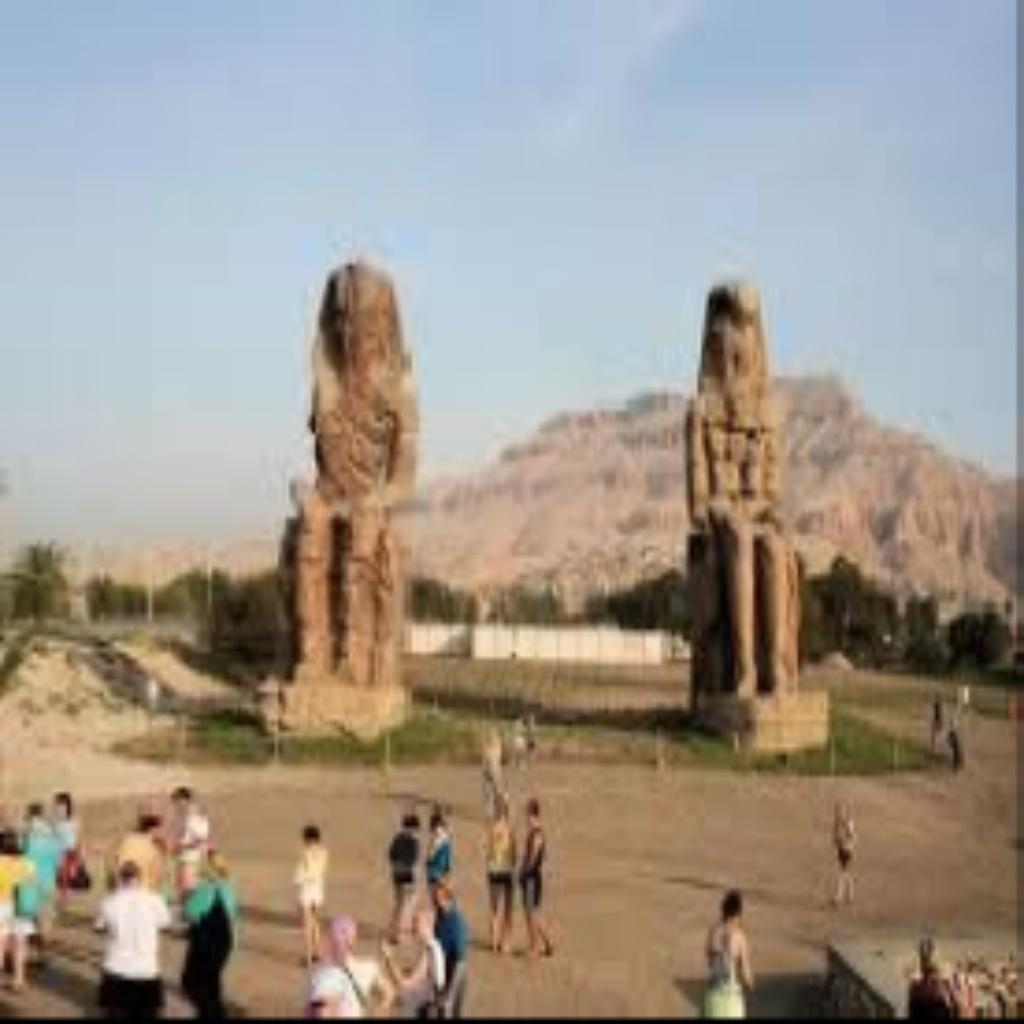Colossoi of Memnon: (263, 242, 423, 737), (676, 264, 828, 748)
